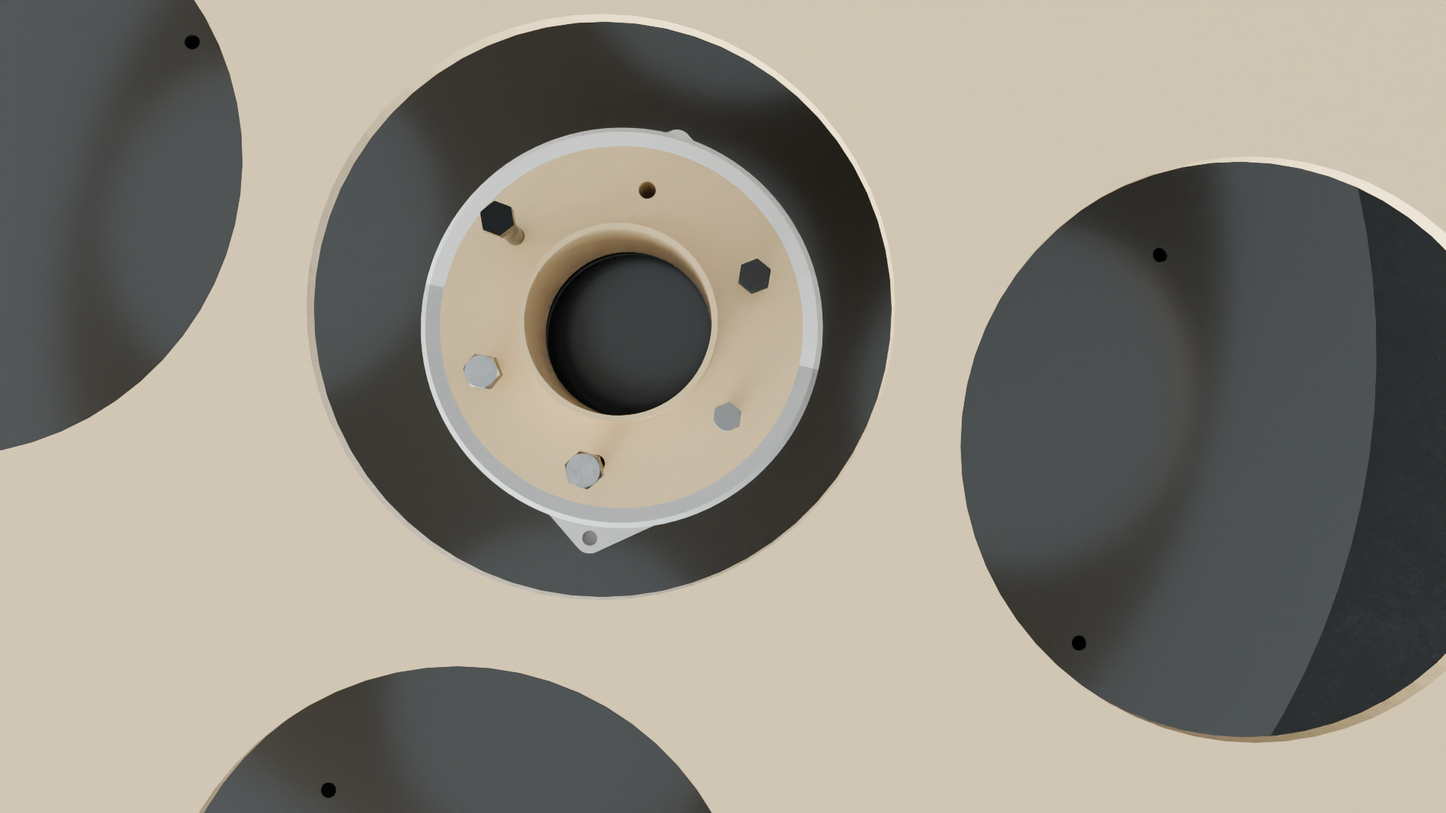bolt: (565, 451, 602, 489), (463, 354, 500, 389), (480, 201, 514, 236), (739, 258, 771, 293), (712, 402, 741, 433)
